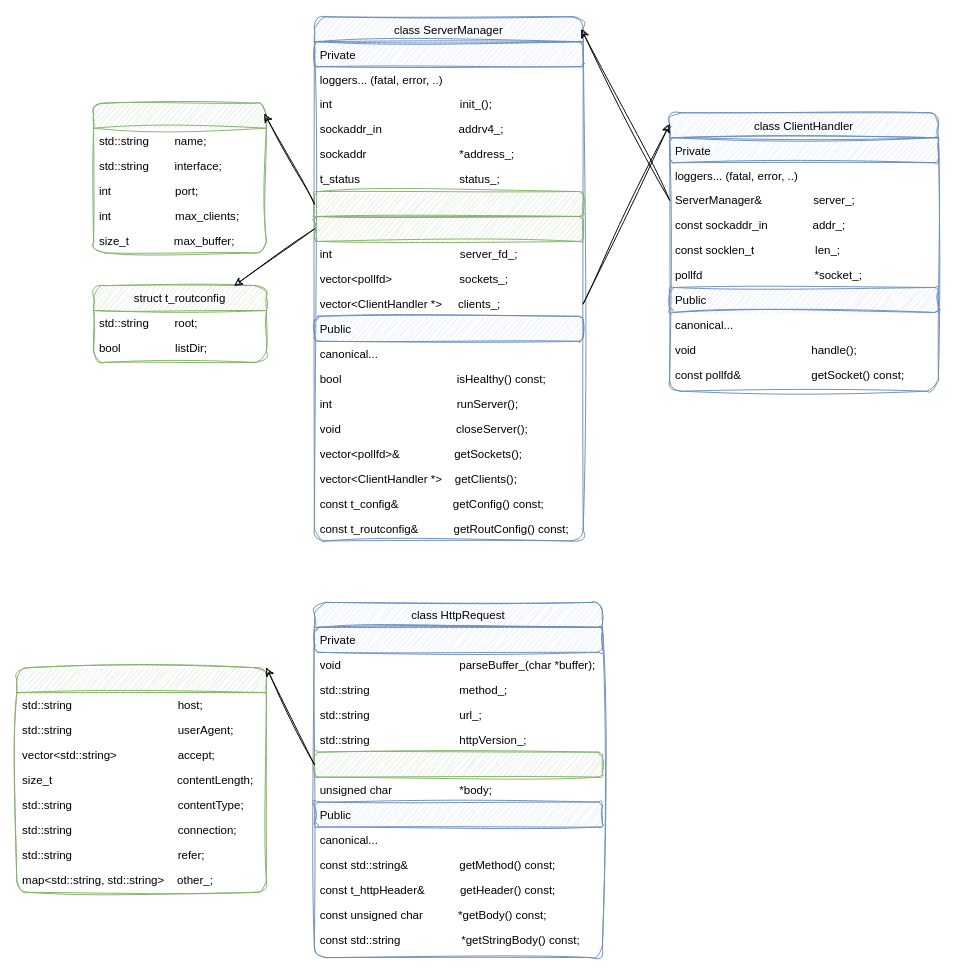
The diagram is 955 pixels wide and 974 high, and some of its shapes have lost their labels. Each missing label, with the box of its shape:
struct t_config: (93, 102, 266, 253)
struct t_httpHeader: (16, 667, 266, 892)
t_config config_;: (313, 191, 583, 216)
t_httpHeader header_;: (313, 751, 602, 777)
t_routconfig routconfig_;: (313, 216, 583, 241)
